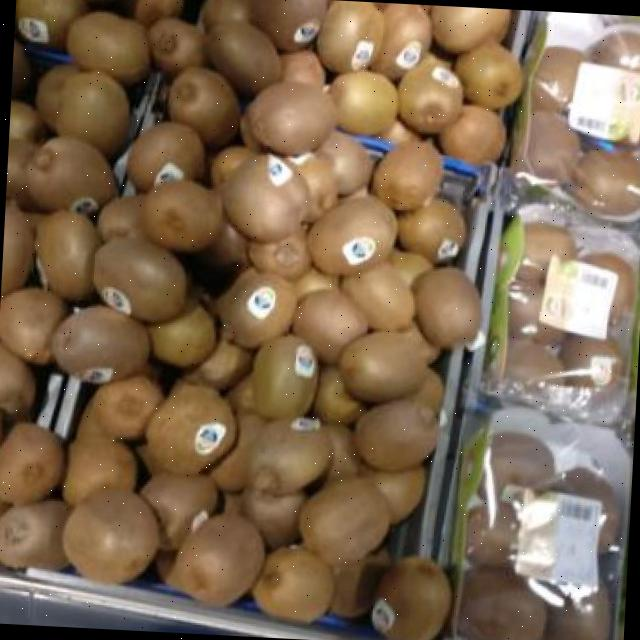kiwi: (62, 489, 160, 583), (166, 515, 265, 606), (146, 380, 237, 475), (339, 326, 440, 403), (301, 478, 391, 564), (94, 240, 188, 322), (223, 154, 309, 242), (52, 306, 150, 383), (308, 196, 396, 275), (246, 82, 335, 155), (372, 557, 450, 640), (217, 268, 297, 348), (26, 140, 116, 210), (249, 419, 331, 495), (56, 72, 128, 157), (253, 547, 332, 623), (141, 472, 217, 551), (67, 12, 149, 84), (35, 210, 99, 300), (355, 400, 436, 471), (252, 336, 321, 419), (409, 268, 480, 348), (141, 181, 221, 252), (169, 67, 239, 146), (293, 291, 368, 364), (206, 23, 279, 96), (398, 53, 463, 134), (0, 423, 65, 504), (127, 123, 204, 191), (0, 288, 68, 364), (63, 439, 137, 506), (317, 0, 384, 73), (0, 502, 71, 570), (342, 264, 415, 330), (372, 143, 443, 210), (455, 41, 523, 109), (372, 3, 432, 79), (93, 376, 163, 440), (211, 413, 267, 493), (398, 198, 466, 263), (148, 305, 216, 368), (331, 71, 396, 135), (242, 488, 306, 549), (439, 105, 505, 164), (252, 0, 328, 51), (432, 5, 510, 53), (317, 132, 373, 195), (287, 152, 338, 221), (15, 0, 86, 48), (185, 339, 252, 389), (147, 18, 205, 75), (248, 231, 312, 280), (371, 467, 423, 524), (315, 367, 365, 425), (3, 205, 34, 295), (36, 66, 79, 129), (0, 344, 35, 415), (97, 197, 144, 242), (324, 423, 360, 480), (6, 139, 36, 198), (388, 250, 433, 288), (280, 52, 325, 89), (407, 368, 444, 413), (76, 398, 110, 441), (201, 0, 251, 28), (9, 101, 42, 142), (134, 0, 183, 26), (229, 374, 256, 413)
